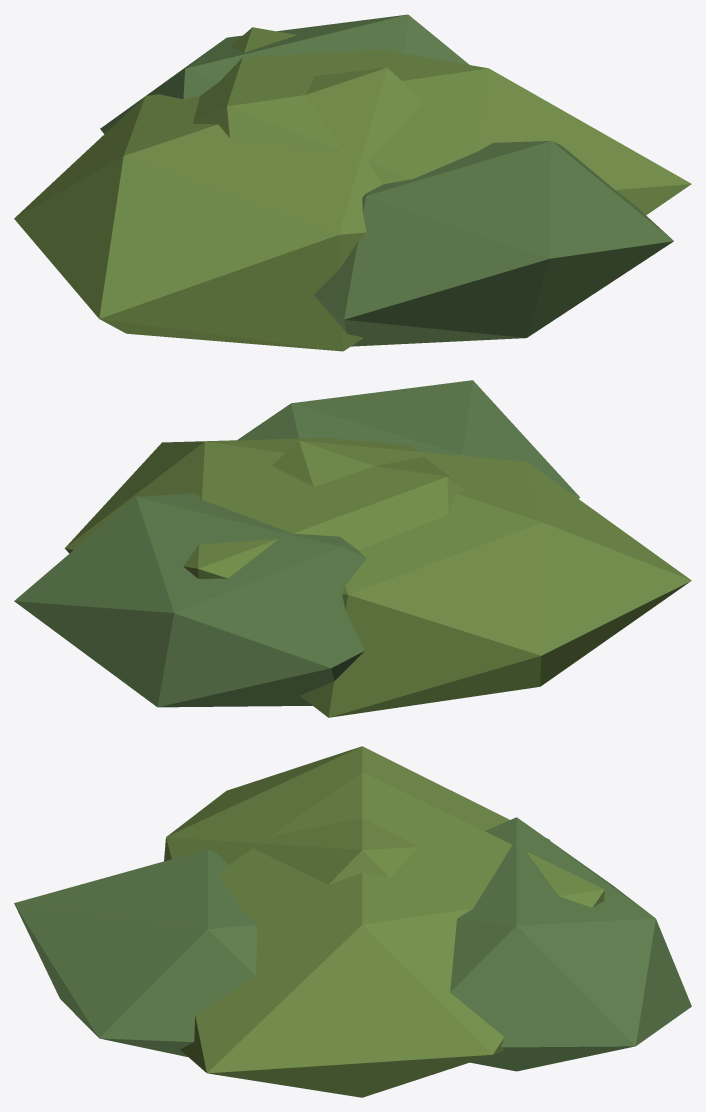
File: moss-clump-2.glb
3 views of the same model, one above another, from view 1: azimuth 30°, elevation 25°; view 2: azimuth 150°, elevation 25°; view 3: azimuth 270°, elevation 25° (orthographic). The views are drawn at different scales.
Parts seen in each view (by area): view 1: moss_clump_2; view 2: moss_clump_2; view 3: moss_clump_2.
Boxes of the visible parts, x1,y1,x2,y2 form: moss_clump_2: (14,14,691,351); moss_clump_2: (14,380,691,717); moss_clump_2: (14,746,691,1097).
Bounding box in the file's own units: 0.5195 × 0.1916 × 0.5269.
